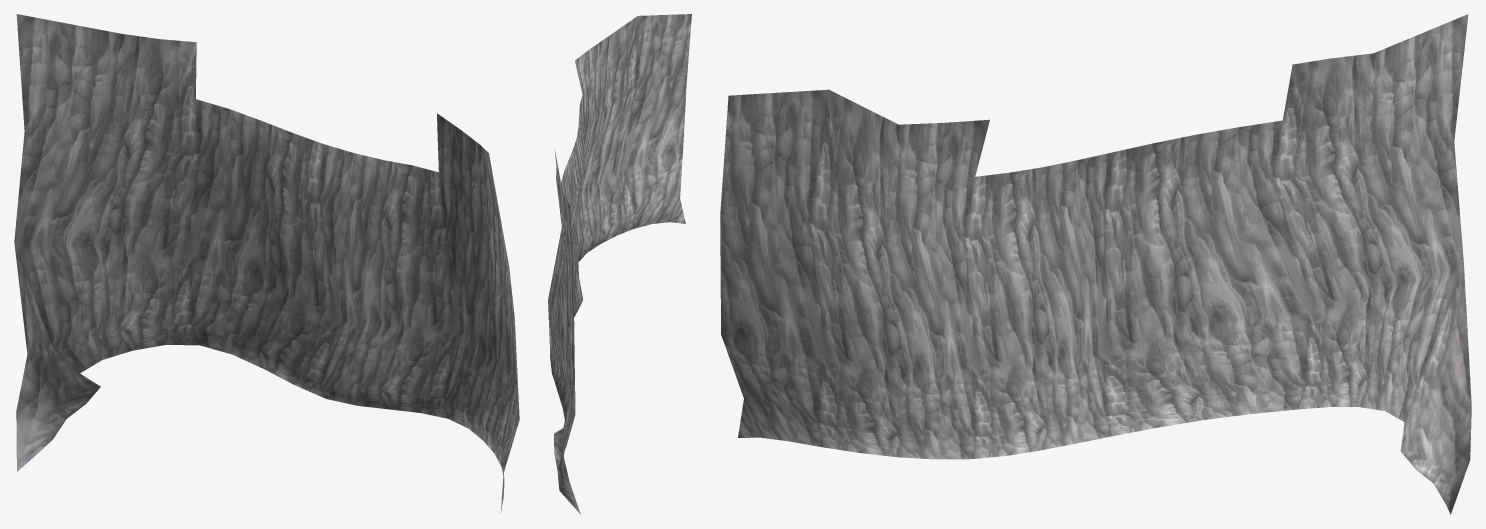
The model's file is SWORDLIGHT20_PS-AREA03_163.fbx.
3 views of the same model, side by side, from view 1: azimuth 30°, elevation 25°; view 2: azimuth 150°, elevation 25°; view 3: azimuth 270°, elevation 25° (orthographic). The views are drawn at different scales.
Parts seen in each view (by area): view 1: SWORDLIGHT20_PS-AREA03_163; view 2: SWORDLIGHT20_PS-AREA03_163; view 3: SWORDLIGHT20_PS-AREA03_163.
Boxes of the visible parts, left/top/right/bottom form: SWORDLIGHT20_PS-AREA03_163: left=14, top=14, right=519, bottom=513; SWORDLIGHT20_PS-AREA03_163: left=548, top=14, right=691, bottom=514; SWORDLIGHT20_PS-AREA03_163: left=720, top=14, right=1471, bottom=514.
Bounding box in the file's own units: 104147 × 204738 × 262232.
Materials: 2 (2 with a texture image).
